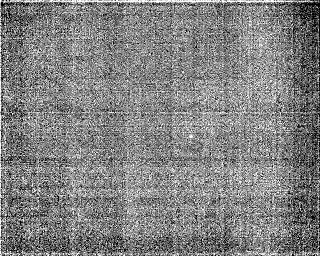AIRPLANE: (187, 132, 195, 141)
